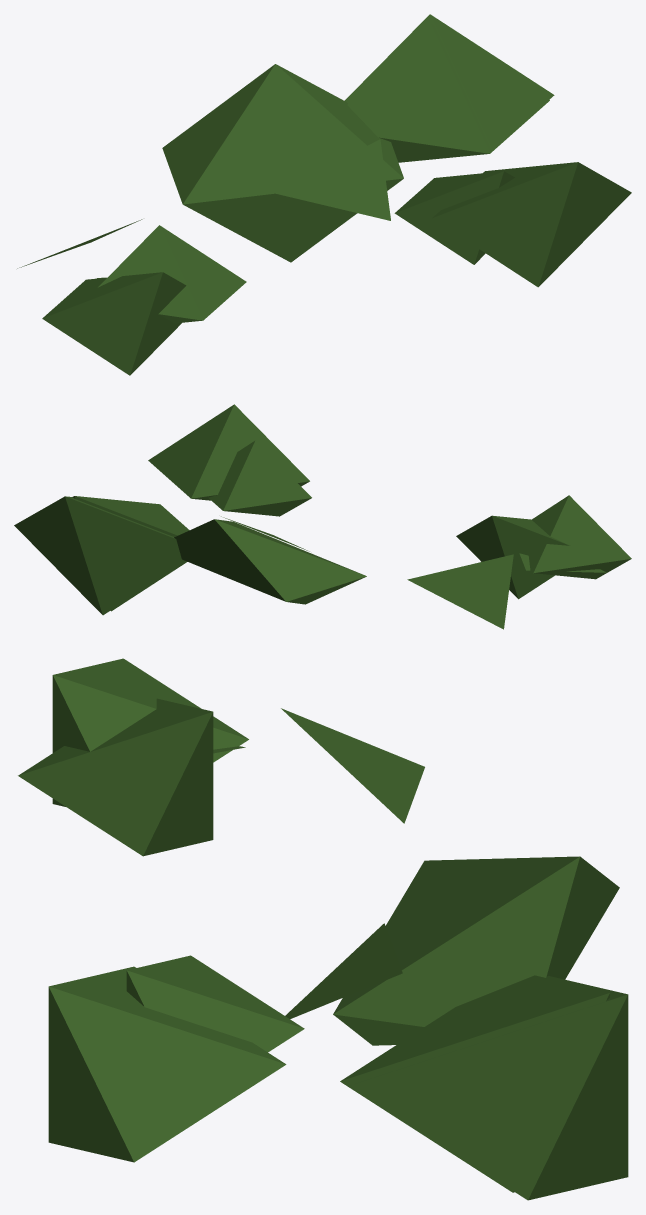
The model's file is tf_seep_growth_lod2.glb.
3 renders of one model, top to bottom at view 1: azimuth 30°, elevation 25°; view 2: azimuth 150°, elevation 25°; view 3: azimuth 270°, elevation 25°, orthographic. The views are drawn at different scales.
Parts seen in each view (by area): view 1: tf_seep_growth_lod2; view 2: tf_seep_growth_lod2; view 3: tf_seep_growth_lod2.
Boxes of the visible parts, left/top/right/bottom form: tf_seep_growth_lod2: left=17, top=14, right=631, bottom=375; tf_seep_growth_lod2: left=14, top=404, right=631, bottom=629; tf_seep_growth_lod2: left=18, top=658, right=628, bottom=1200.
Size of the model in its own units: 6.75 by 1.42 by 3.45.
